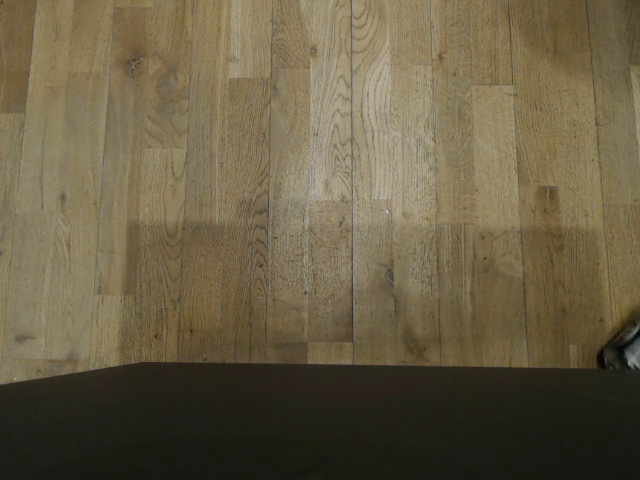beer: (595, 300, 640, 368)
